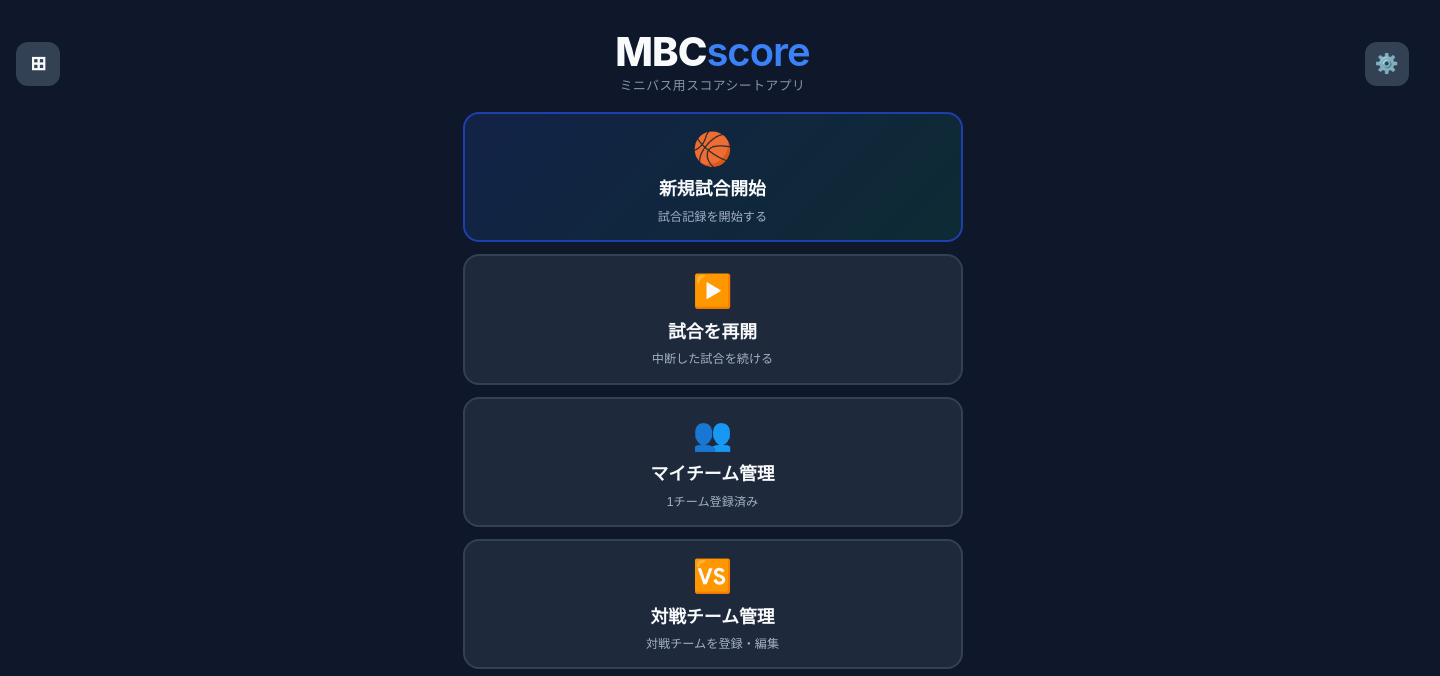
Scenario: 試合中の統計画面 › 試合中は選手別スタッツを上、チーム比較を下に出す
The image size is (1440, 676).
Click the text "試合を再開" at (713, 330), box [668,317,757,343]
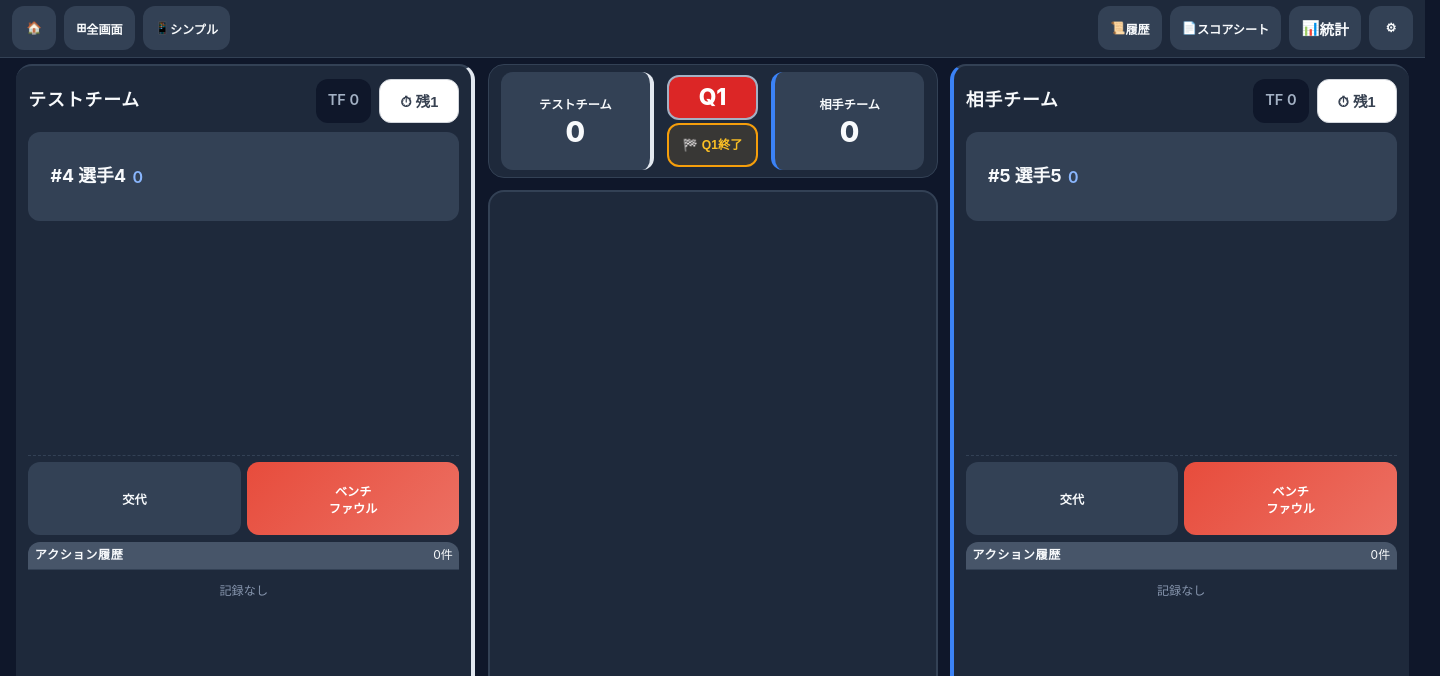
Click the button with aria-label "チーム統計" at (1325, 28), box [1289,6,1361,50]
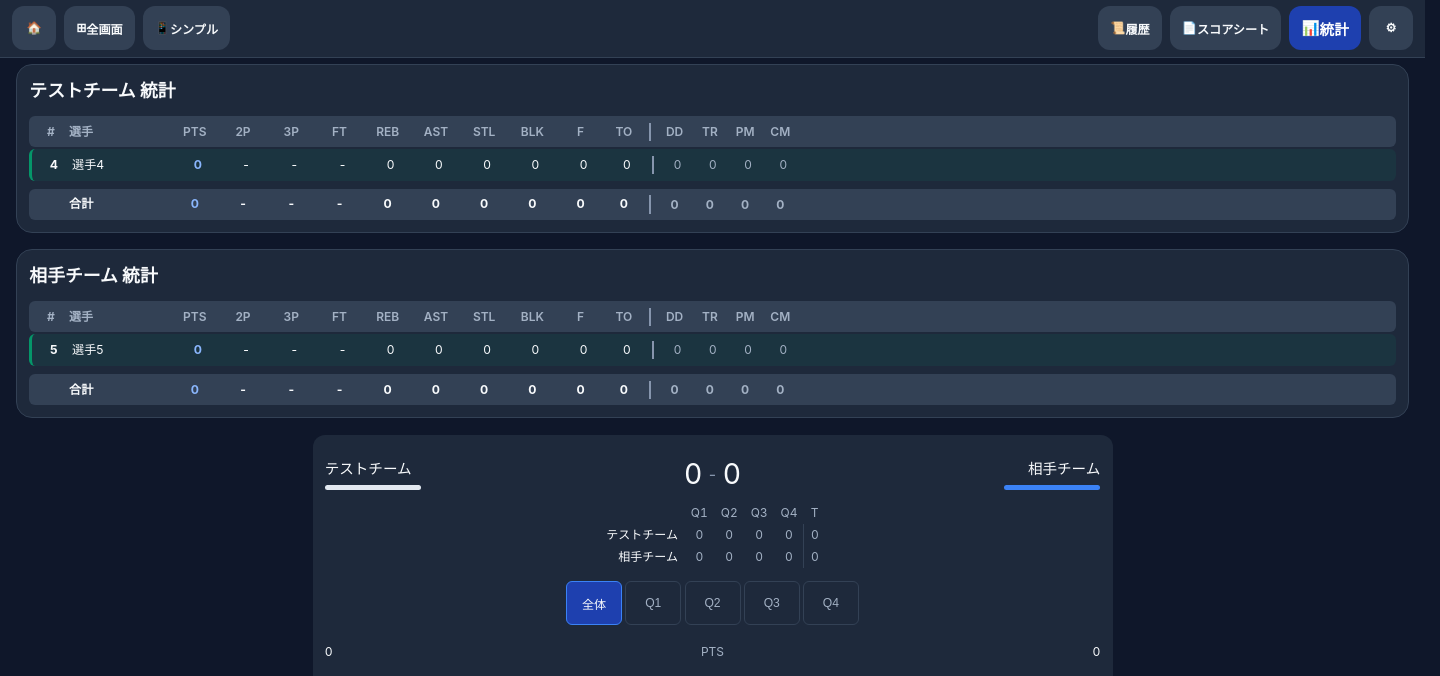
Result: the element with class "stats-panel" that starts with "テストチーム" is shown at [16,64,1409,233]
